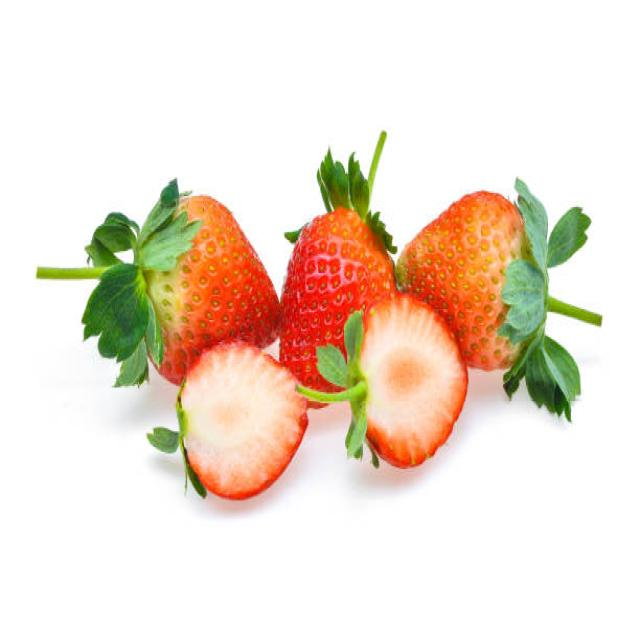Healthy Fruit: (148, 194, 285, 386), (399, 187, 535, 375), (279, 209, 396, 406)
